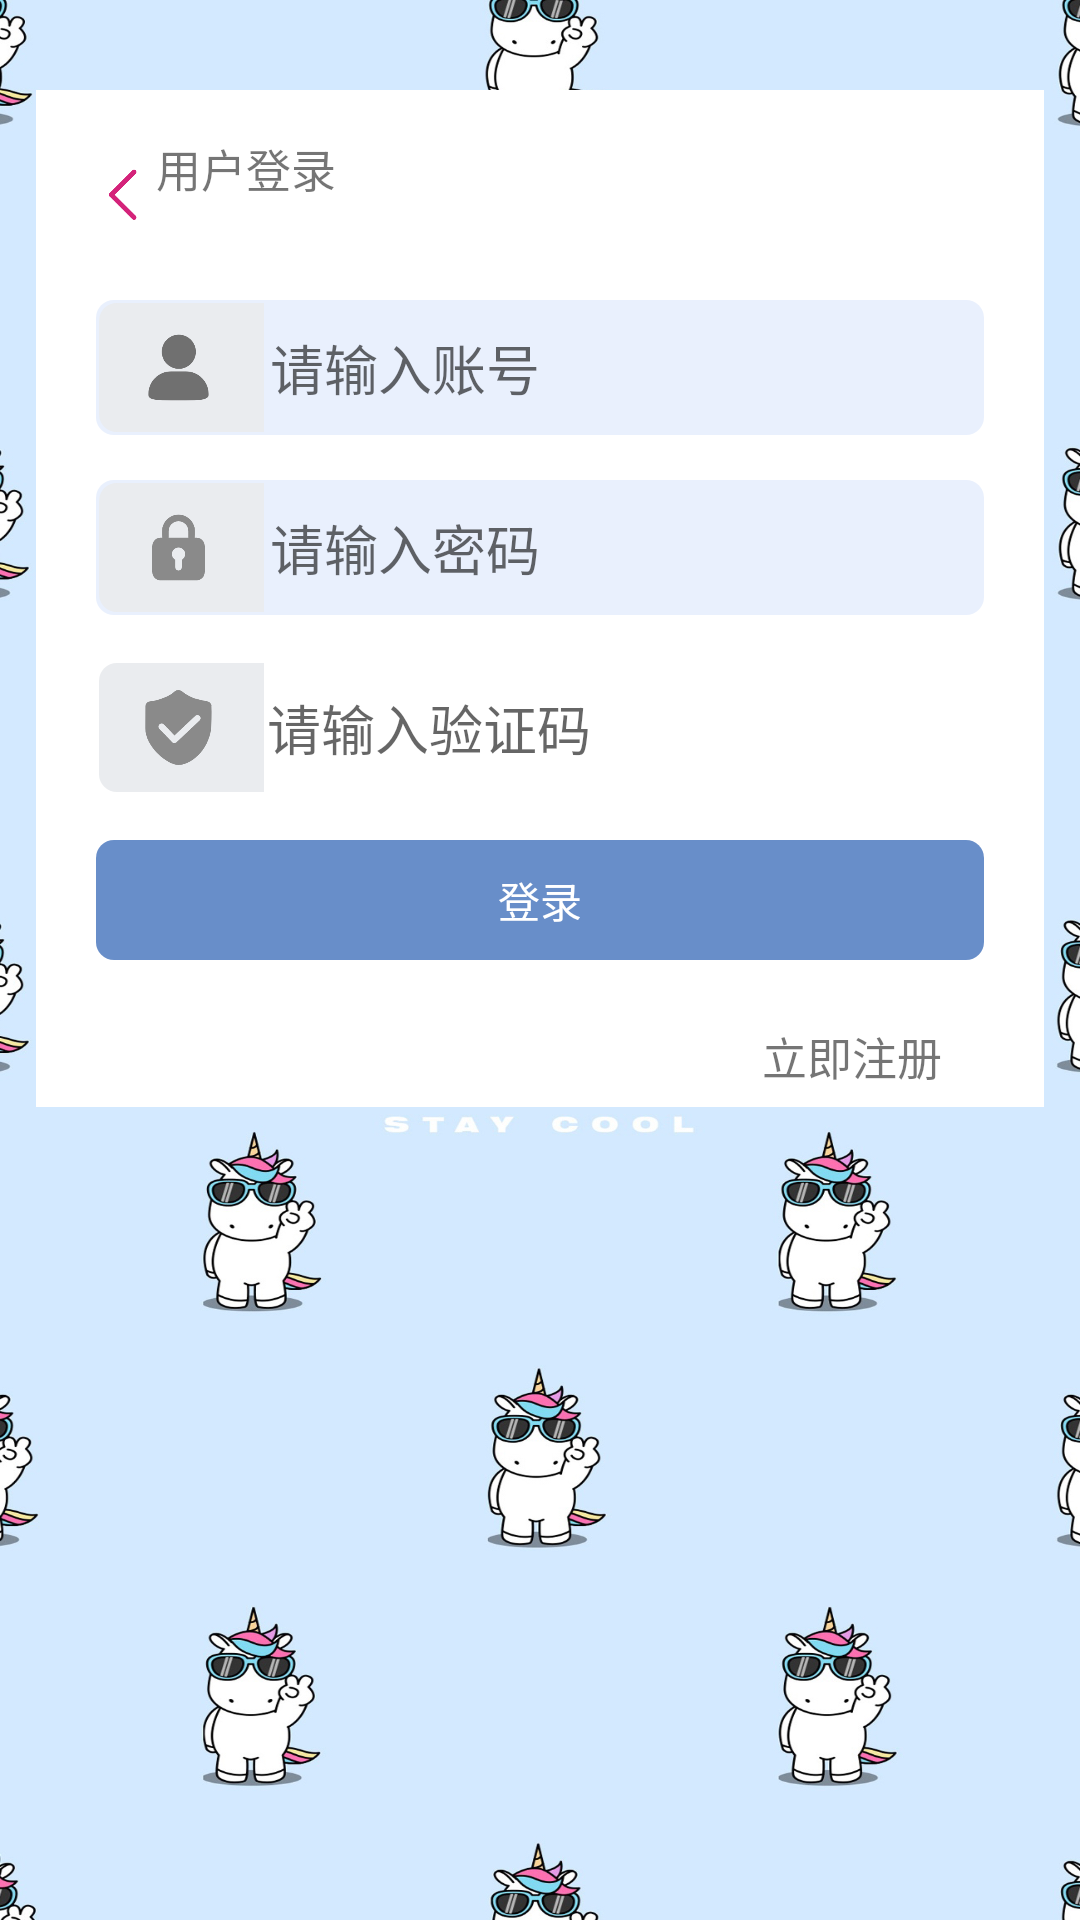

Named icons in this screenshot (1080 × 1920) and their centers, point (x, y):
account: point (178, 367)
back arrow: point (123, 194)
code: point (178, 727)
